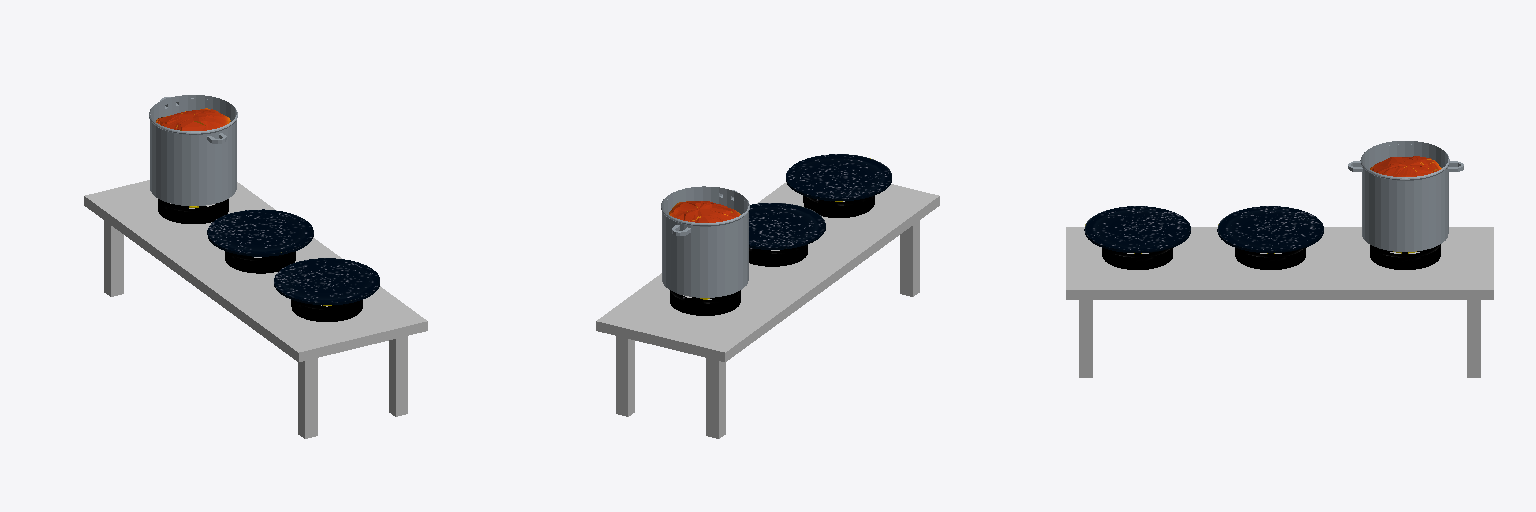
3 renders of one model, left to right at view 1: azimuth 30°, elevation 25°; view 2: azimuth 150°, elevation 25°; view 3: azimuth 270°, elevation 25°, orthographic.
Visible parts, largest first — view 1: Cube, Cylinder.003, Cylinder, Cylinder.001, Cylinder.002, Sphere; view 2: Cube, Cylinder.003, Cylinder, Cylinder.001, Cylinder.002, Sphere; view 3: Cube, Cylinder.003, Cylinder.001, Cylinder, Cylinder.002, Sphere.
Part boxes in pixels (bbox=[...]): Cube: bbox=[84, 180, 427, 438]; Cylinder.003: bbox=[149, 95, 237, 205]; Cylinder: bbox=[274, 258, 379, 321]; Cylinder.001: bbox=[207, 209, 313, 273]; Cylinder.002: bbox=[158, 199, 228, 223]; Sphere: bbox=[156, 108, 230, 130]; Cube: bbox=[596, 182, 939, 438]; Cylinder.003: bbox=[661, 186, 749, 297]; Cylinder: bbox=[786, 154, 891, 217]; Cylinder.001: bbox=[749, 203, 825, 266]; Cylinder.002: bbox=[670, 290, 740, 315]; Sphere: bbox=[669, 201, 740, 222]; Cube: bbox=[1066, 227, 1493, 377]; Cylinder.003: bbox=[1348, 141, 1463, 251]; Cylinder.001: bbox=[1217, 206, 1323, 269]; Cylinder: bbox=[1084, 206, 1190, 269]; Cylinder.002: bbox=[1370, 244, 1440, 269]; Sphere: bbox=[1370, 156, 1441, 176].
Size of the model in its own units: 1.99 by 2.86 by 5.72.
Materials: 4 (3 with a texture image).